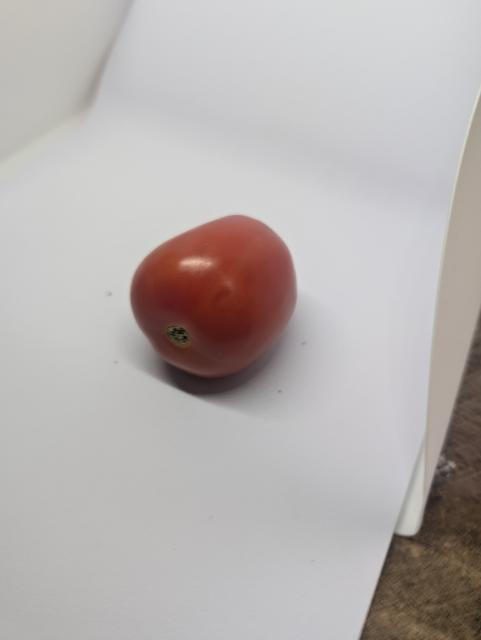red: (119, 203, 309, 404)
